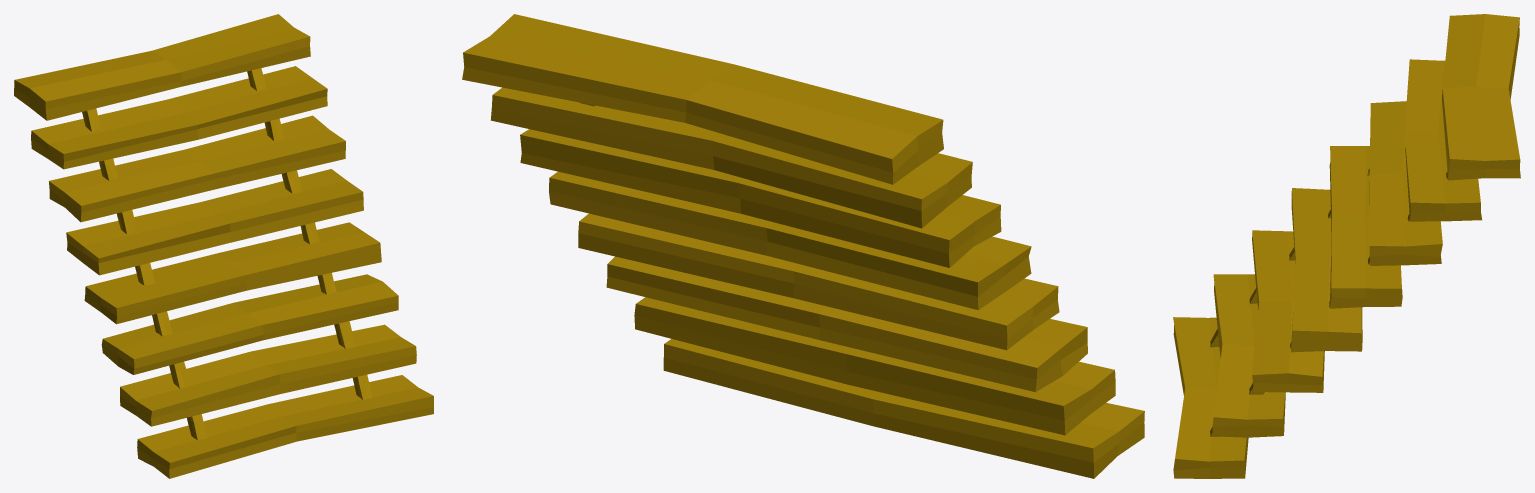
The model's file is stairs.glb.
The picture shows the model from 3 angles, left to right: view 1: azimuth 30°, elevation 25°; view 2: azimuth 150°, elevation 25°; view 3: azimuth 270°, elevation 25°; orthographic projection. The views are drawn at different scales.
Visible parts, largest first — view 1: stairs; view 2: stairs; view 3: stairs.
Boxes of the visible parts, x1,y1,x2,y2 form: stairs: (14, 14, 433, 478); stairs: (462, 14, 1144, 478); stairs: (1173, 14, 1520, 478).
Bounding box in the file's own units: 0.9644 × 1.01 × 0.9819.
